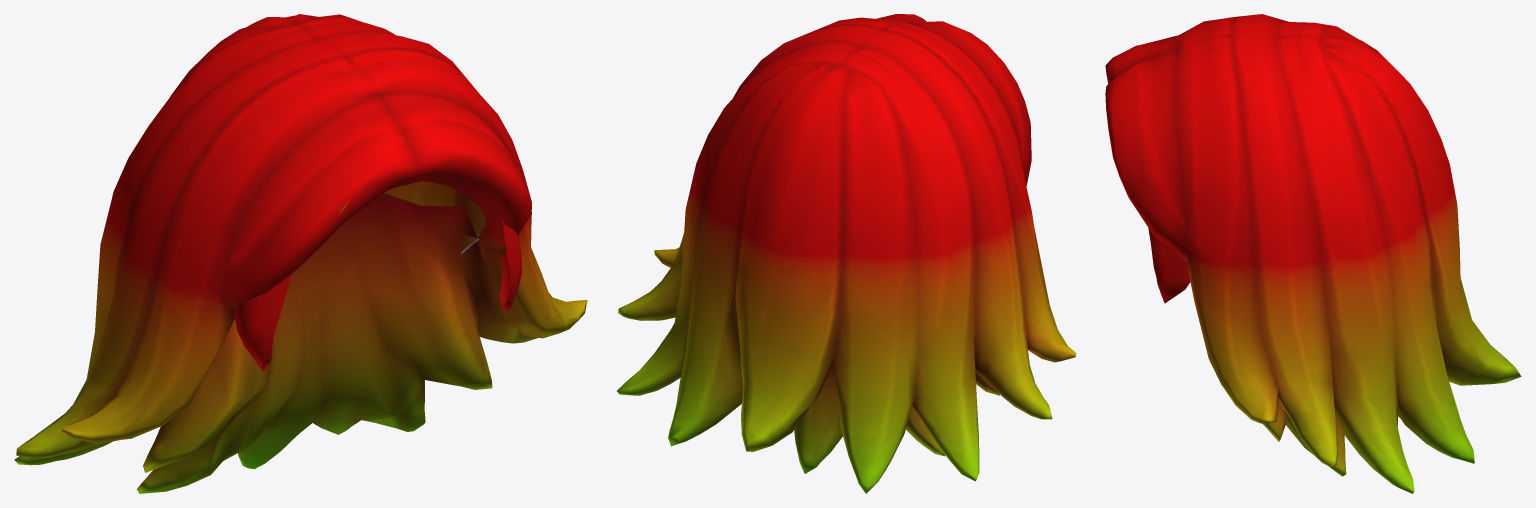
Rendered from HairBack_Flare.obj.
The picture shows the model from 3 angles, left to right: view 1: azimuth 30°, elevation 25°; view 2: azimuth 150°, elevation 25°; view 3: azimuth 270°, elevation 25°; orthographic projection. The views are drawn at different scales.
Visible parts, largest first — view 1: HairBack_Flare_0; view 2: HairBack_Flare_0; view 3: HairBack_Flare_0.
Part boxes in pixels (x1,y1,x2,y2): HairBack_Flare_0: [14, 14, 587, 493]; HairBack_Flare_0: [617, 14, 1076, 493]; HairBack_Flare_0: [1105, 14, 1521, 493].
Size of the model in its own units: 0.3596 by 0.3076 by 0.2815.
Materials: 1 (1 with a texture image).
